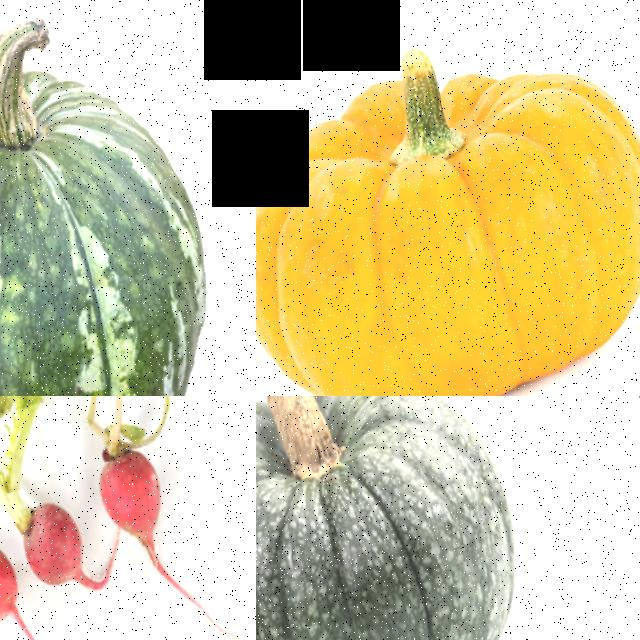pumpkin: (256, 0, 640, 396), (0, 16, 255, 396), (256, 396, 552, 640)
radishes: (62, 396, 177, 578), (0, 429, 90, 611), (0, 455, 27, 640)
